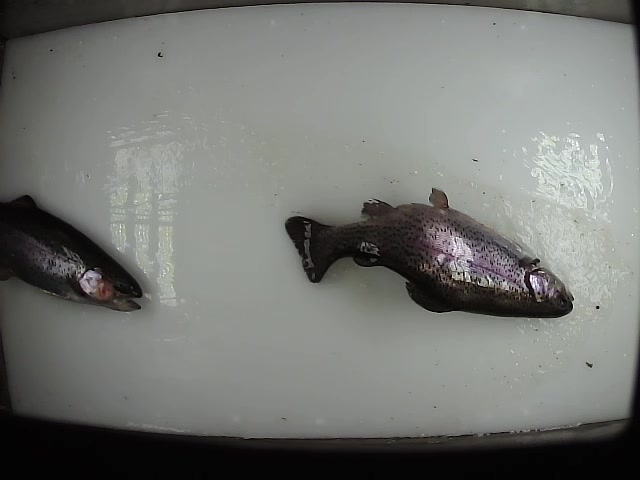fish: (282, 186, 574, 322), (1, 193, 146, 314)
